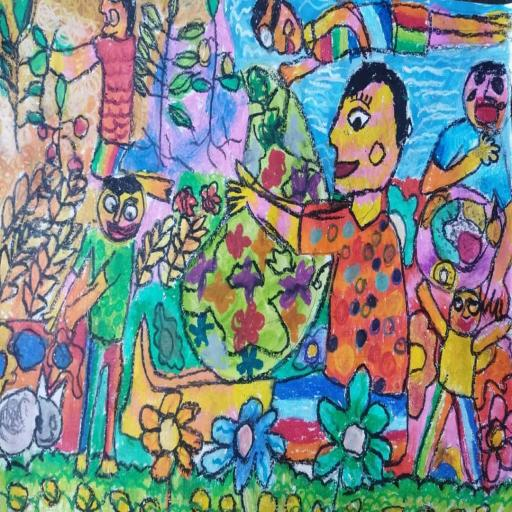person: (257, 62, 415, 466), (62, 169, 152, 475), (409, 282, 512, 481), (56, 0, 166, 185), (250, 0, 512, 69), (419, 60, 512, 208)
